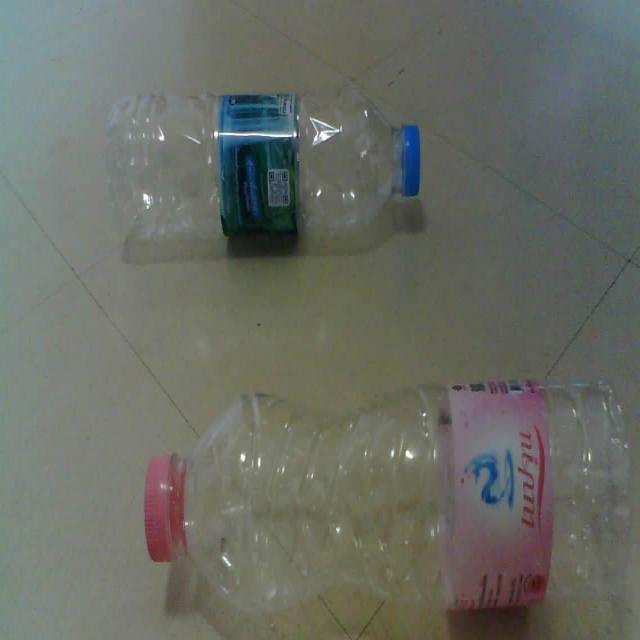empty: (145, 380, 630, 608), (108, 87, 420, 261)
